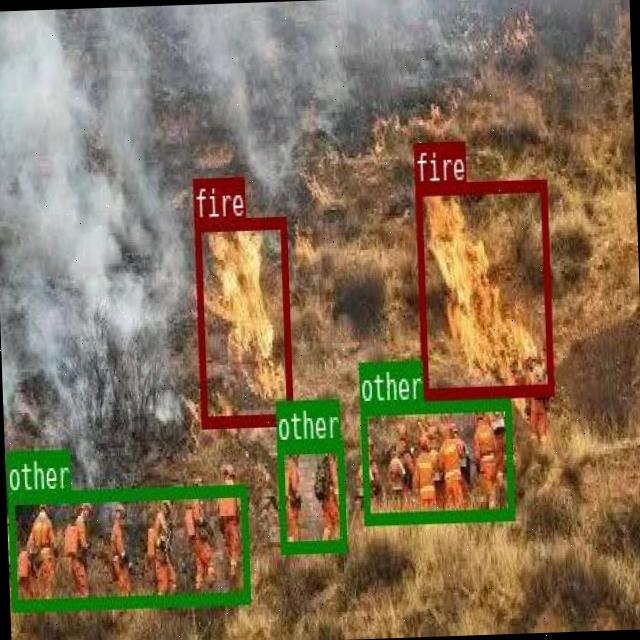fire: (416, 178, 552, 396), (192, 216, 292, 424)
